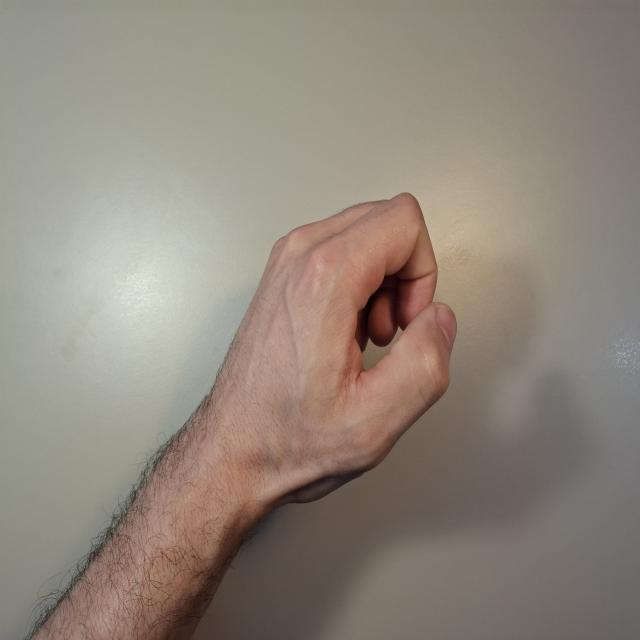glove_off: (208, 188, 461, 514)
